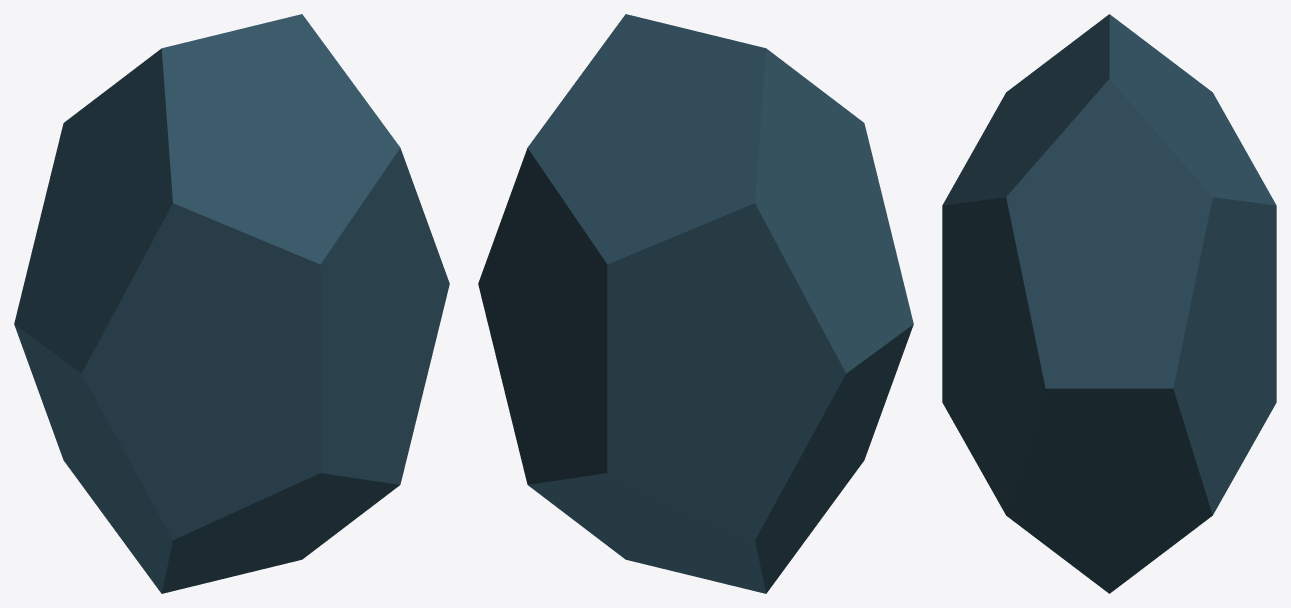
Rendered from reef-rock.glb.
The picture shows the model from 3 angles, left to right: view 1: azimuth 30°, elevation 25°; view 2: azimuth 150°, elevation 25°; view 3: azimuth 270°, elevation 25°; orthographic projection. The views are drawn at different scales.
Visible parts, largest first — view 1: rock; view 2: rock; view 3: rock.
Part boxes in pixels (bbox=[...]): rock: bbox=[14, 14, 449, 593]; rock: bbox=[478, 14, 913, 593]; rock: bbox=[942, 14, 1276, 593].
Size of the model in its own units: 2.69 by 3.81 by 2.24.
